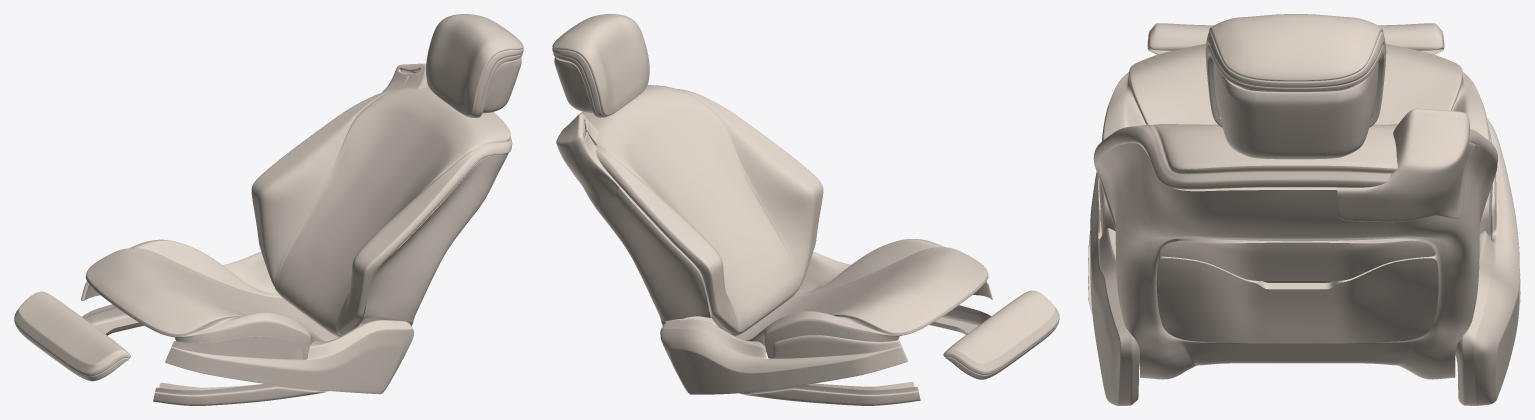
The model's file is Frontsitz_BFS_45.fbx.
3 views of the same model, side by side, from view 1: azimuth 30°, elevation 25°; view 2: azimuth 150°, elevation 25°; view 3: azimuth 270°, elevation 25° (orthographic). The views are drawn at different scales.
Visible parts, largest first — view 1: Frontsitze_45°; view 2: Frontsitze_45°; view 3: Frontsitze_45°.
Part boxes in pixels (box(x1,y1,x2,y2)): Frontsitze_45°: box(14, 14, 523, 405); Frontsitze_45°: box(552, 14, 1059, 405); Frontsitze_45°: box(1088, 14, 1520, 405).
Bounding box in the file's own units: 132 × 80.69 × 61.51.
